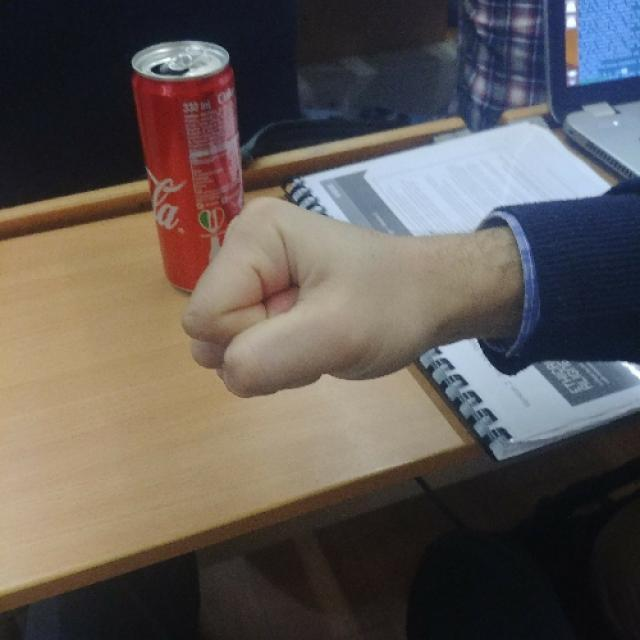rock: (184, 198, 423, 400)
